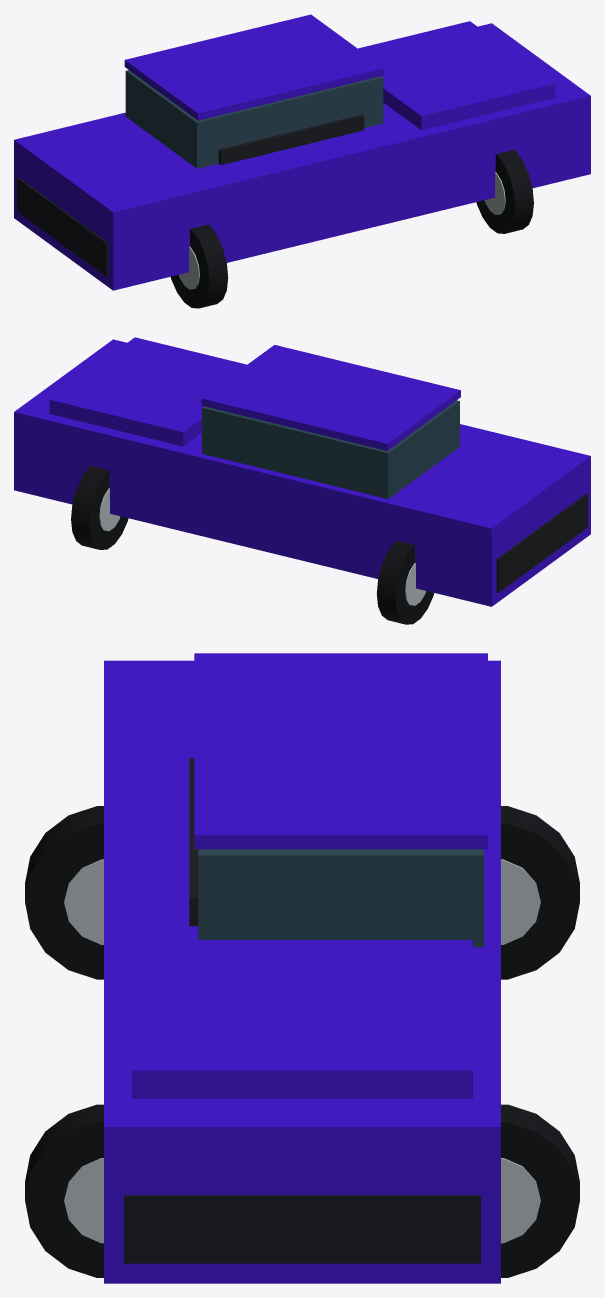
The model's file is chevy_silverado_6500hd.glb.
The picture shows the model from 3 angles, top to bottom: view 1: azimuth 30°, elevation 25°; view 2: azimuth 150°, elevation 25°; view 3: azimuth 270°, elevation 25°; orthographic projection. The views are drawn at different scales.
Parts seen in each view (by area): view 1: body, roof, hood, cabin, rear_bumper, front_right_wheel, rear_right_wheel, interior; view 2: body, roof, cabin, hood, rear_bumper, front_left_wheel, rear_left_wheel; view 3: body, roof, hood, cabin, front_bumper, rear_left_wheel, rear_right_wheel, front_left_wheel, front_right_wheel, interior.
Part boxes in pixels (x1=…): body: x1=14, y1=23, x2=590, y2=290; roof: x1=124, y1=14, x2=384, y2=120; hood: x1=358, y1=21, x2=555, y2=130; cabin: x1=125, y1=70, x2=383, y2=168; rear_bumper: x1=17, y1=177, x2=108, y2=276; front_right_wheel: x1=476, y1=150, x2=533, y2=233; rear_right_wheel: x1=170, y1=224, x2=228, y2=308; interior: x1=218, y1=114, x2=364, y2=165; body: x1=14, y1=339, x2=590, y2=606; roof: x1=201, y1=345, x2=460, y2=450; cabin: x1=202, y1=400, x2=459, y2=499; hood: x1=49, y1=337, x2=246, y2=446; rear_bumper: x1=496, y1=494, x2=587, y2=592; front_left_wheel: x1=71, y1=466, x2=128, y2=549; rear_left_wheel: x1=376, y1=540, x2=434, y2=624; body: x1=104, y1=660, x2=500, y2=1283; roof: x1=194, y1=653, x2=487, y2=849; hood: x1=132, y1=940, x2=472, y2=1098; cabin: x1=198, y1=849, x2=483, y2=947; front_bumper: x1=124, y1=1195, x2=480, y2=1263; rear_left_wheel: x1=501, y1=806, x2=579, y2=979; rear_right_wheel: x1=25, y1=806, x2=103, y2=979; front_left_wheel: x1=501, y1=1104, x2=579, y2=1277; front_right_wheel: x1=25, y1=1104, x2=103, y2=1277; interior: x1=189, y1=758, x2=198, y2=926.
Bounding box in the file's own units: 5.75 × 1.93 × 2.87.
